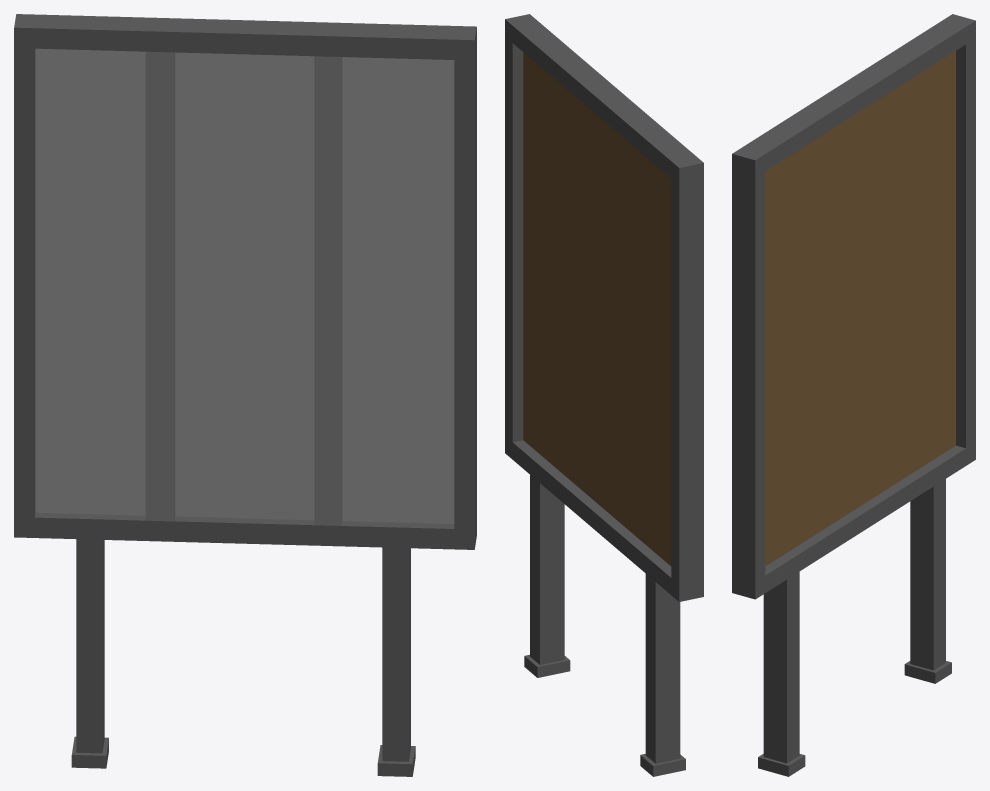
File: Street Advertisement 1.fbx
3 renders of one model, left to right at view 1: azimuth 30°, elevation 25°; view 2: azimuth 150°, elevation 25°; view 3: azimuth 270°, elevation 25°, orthographic. The views are drawn at different scales.
Visible parts, largest first — view 1: Street Advertisement 1; view 2: Street Advertisement 1; view 3: Street Advertisement 1.
Part boxes in pixels (<box>): Street Advertisement 1: <box>14,14,476,776</box>; Street Advertisement 1: <box>505,14,703,776</box>; Street Advertisement 1: <box>732,14,975,776</box>.
Size of the model in its own units: 174 by 123 by 352.
